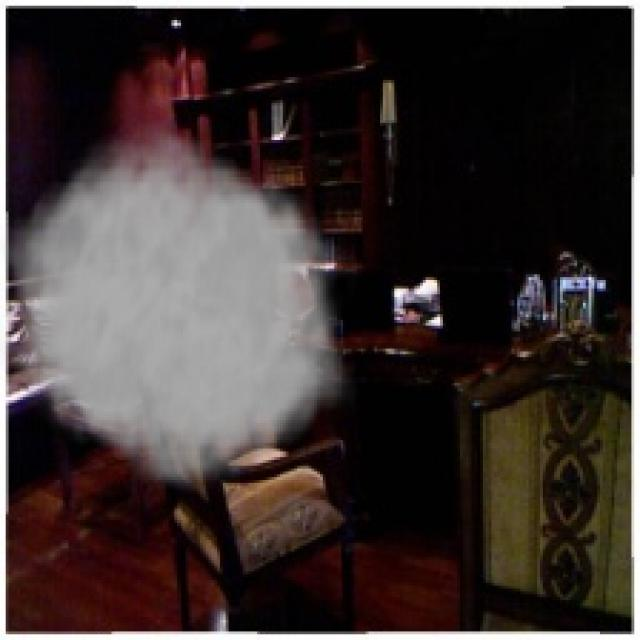smoke: (0, 114, 360, 500)
